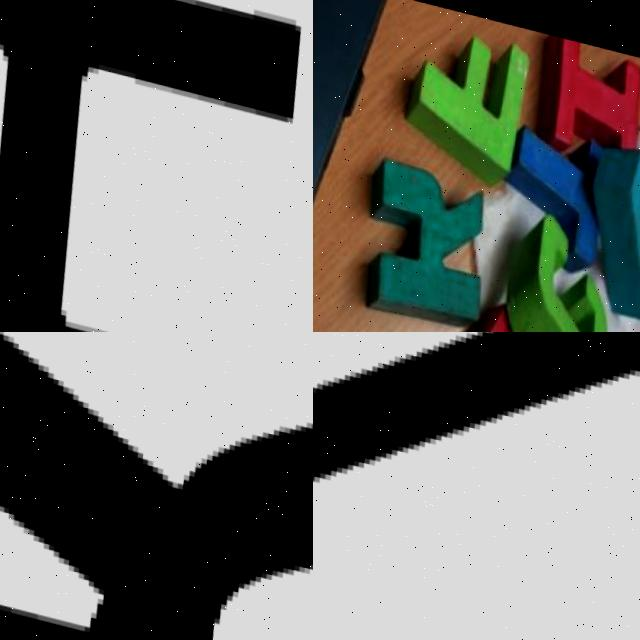C: (484, 197, 628, 332)
F: (389, 7, 539, 183)
H: (0, 0, 313, 332)
I: (527, 23, 640, 146)
K: (0, 332, 313, 640), (340, 131, 503, 332)
V: (577, 129, 640, 319)
Z: (313, 332, 640, 603)
